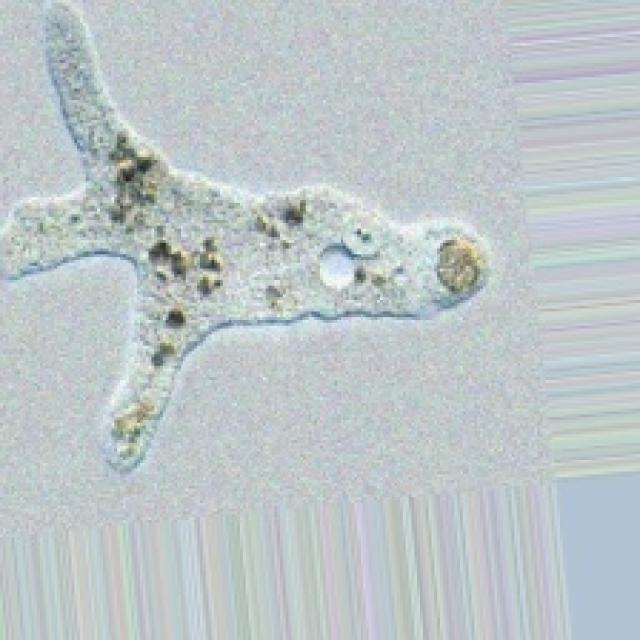Amoeba: (0, 0, 488, 471)
